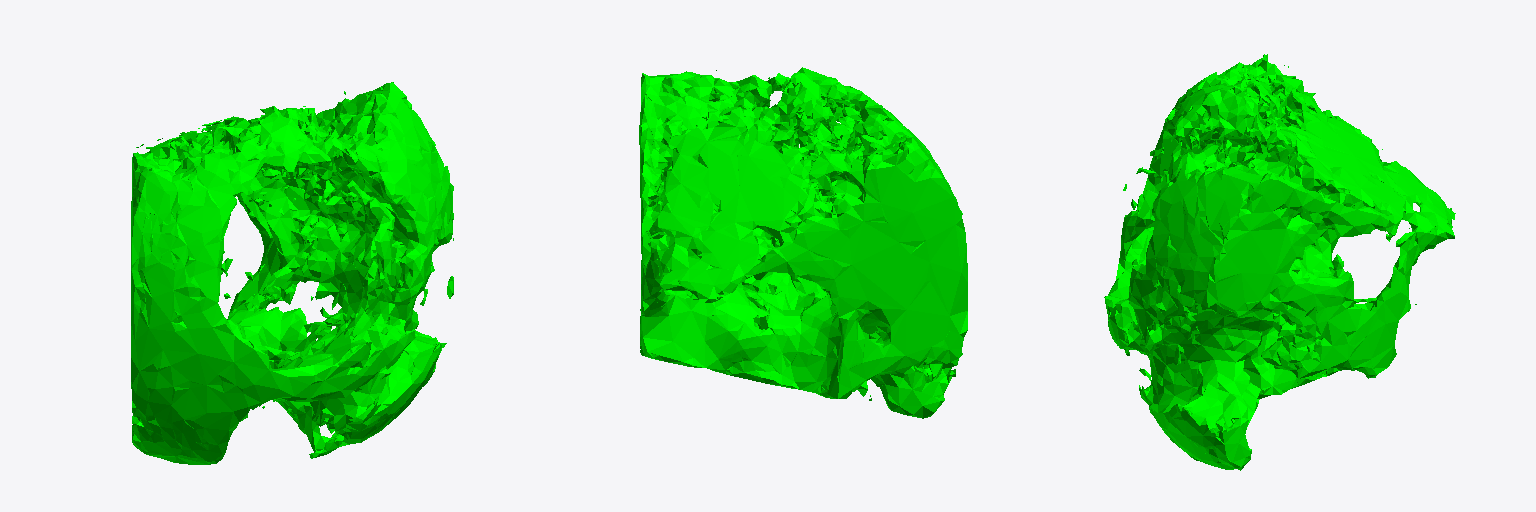
The model's file is B939XXXX-1_base_12.obj.
3 renders of one model, left to right at view 1: azimuth 30°, elevation 25°; view 2: azimuth 150°, elevation 25°; view 3: azimuth 270°, elevation 25°, orthographic.
Parts seen in each view (by area): view 1: 12_base; view 2: 12_base; view 3: 12_base.
Boxes of the visible parts, x1=… form: 12_base: x1=131, y1=82, x2=453, y2=464; 12_base: x1=639, y1=67, x2=967, y2=418; 12_base: x1=1104, y1=54, x2=1455, y2=470.
Bounding box in the file's own units: 216 × 214 × 203.